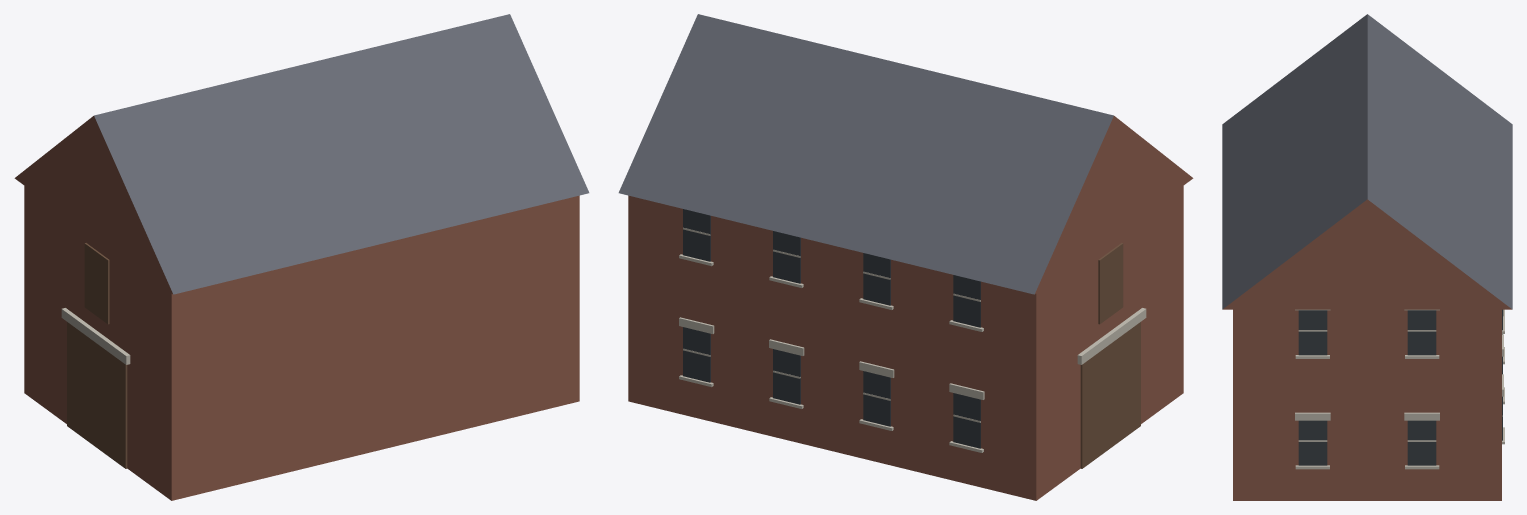
Rendered from house_2018_prairie_coach_house__draft_1904.glb.
The picture shows the model from 3 angles, left to right: view 1: azimuth 30°, elevation 25°; view 2: azimuth 150°, elevation 25°; view 3: azimuth 270°, elevation 25°; orthographic projection. The views are drawn at different scales.
Visible parts, largest first — view 1: house_2018_prairie_coach_house__draft_1904; view 2: house_2018_prairie_coach_house__draft_1904; view 3: house_2018_prairie_coach_house__draft_1904.
Boxes of the visible parts, x1,y1,x2,y2 form: house_2018_prairie_coach_house__draft_1904: (14,14,589,500); house_2018_prairie_coach_house__draft_1904: (618,14,1193,500); house_2018_prairie_coach_house__draft_1904: (1222,14,1512,500).
Size of the model in its own units: 12.24 by 9.35 by 8.1.
